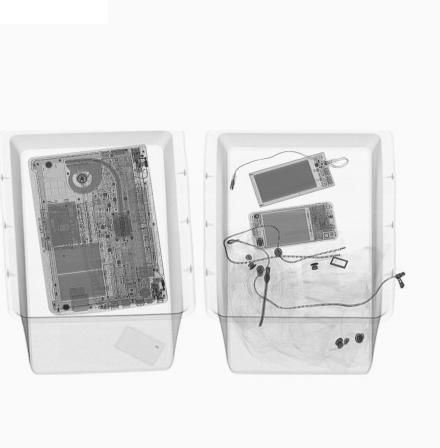Powerbank: (247, 151, 337, 207)
